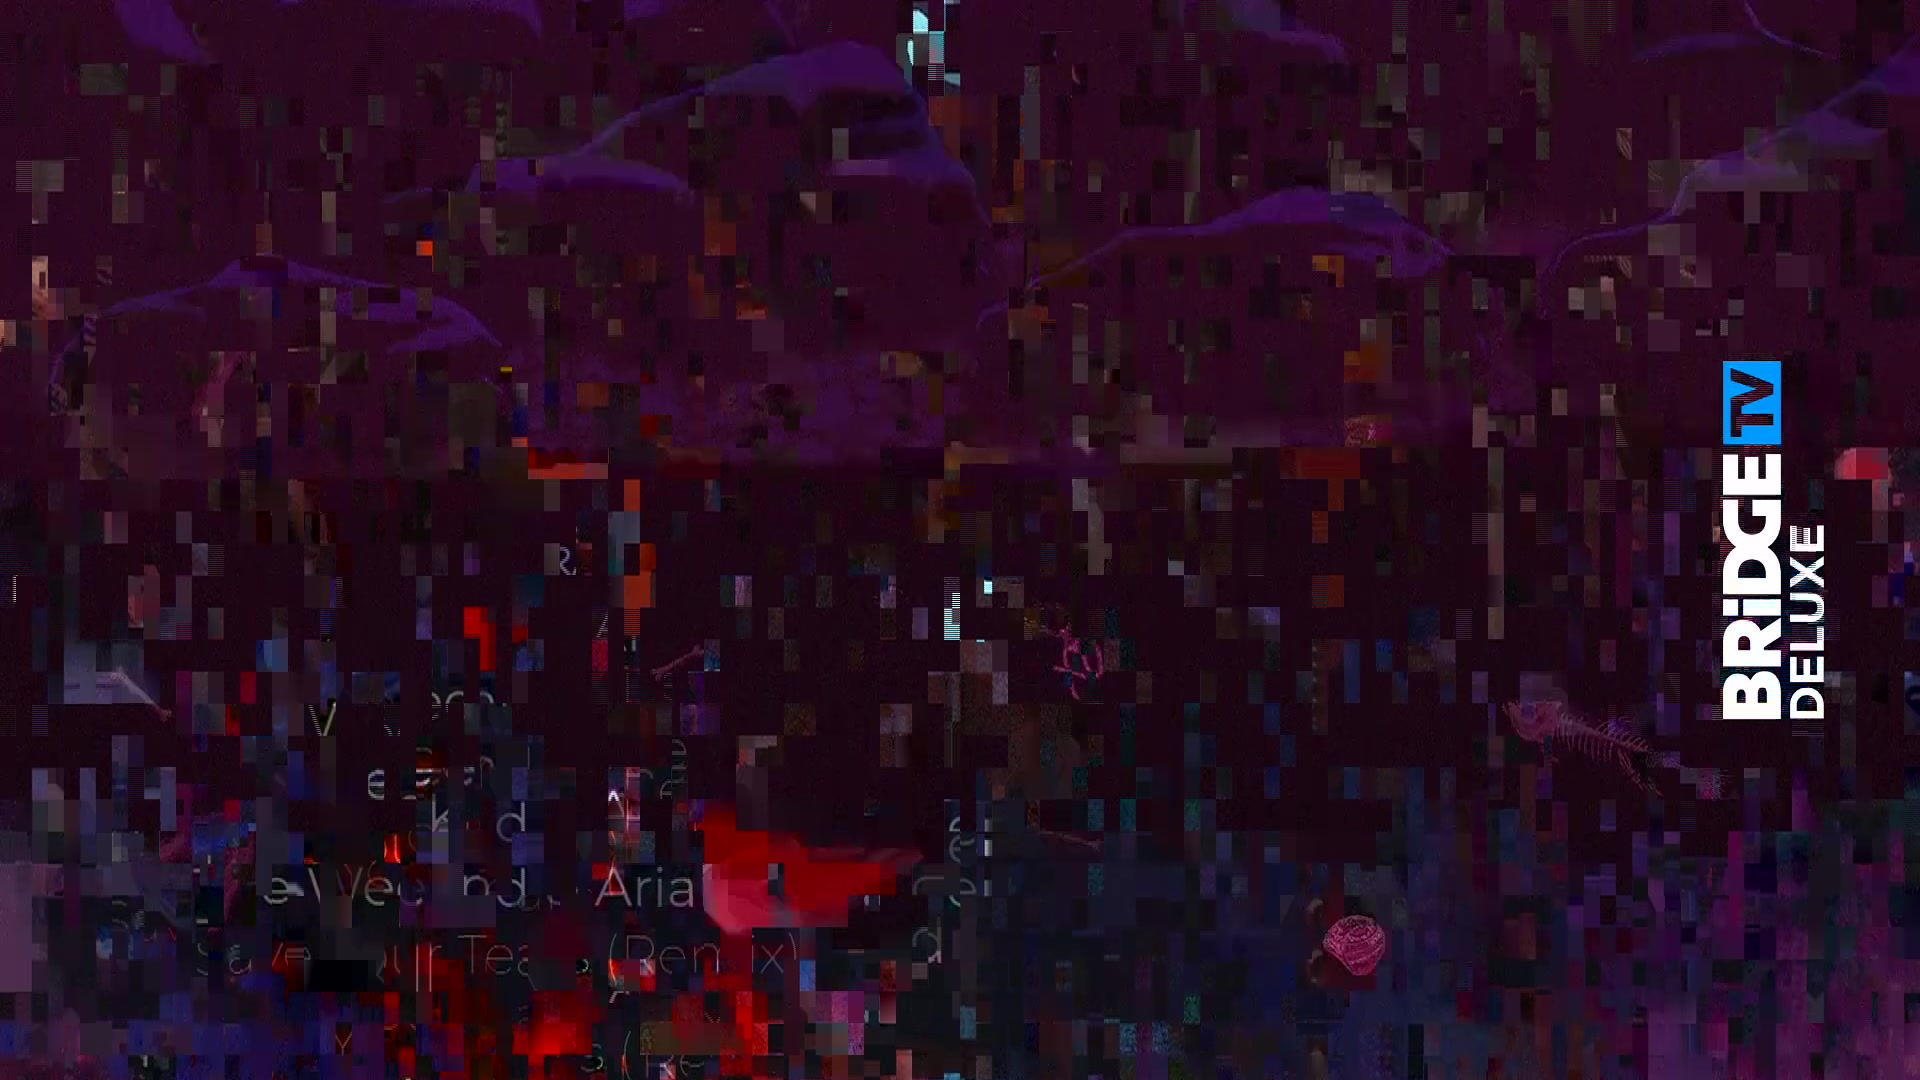Bridge_TV_Deluxe: (1718, 353, 1829, 727)
